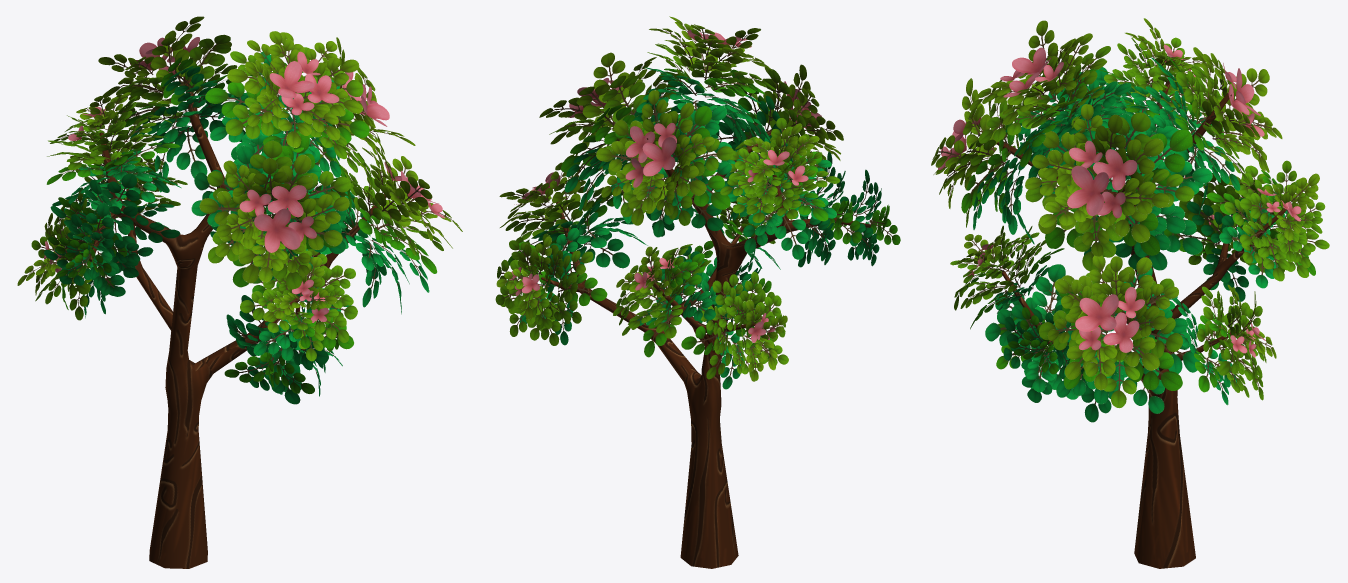
The model's file is greentree3.fbx.
The picture shows the model from 3 angles, left to right: view 1: azimuth 30°, elevation 25°; view 2: azimuth 150°, elevation 25°; view 3: azimuth 270°, elevation 25°; orthographic projection. The views are drawn at different scales.
Visible parts, largest first — view 1: TRW2; view 2: TRW2; view 3: TRW2.
Part boxes in pixels (x1,y1,x2,y2): TRW2: (17,16,462,568); TRW2: (495,16,900,568); TRW2: (931,18,1329,568).
Size of the model in its own units: 621 by 764 by 510.
